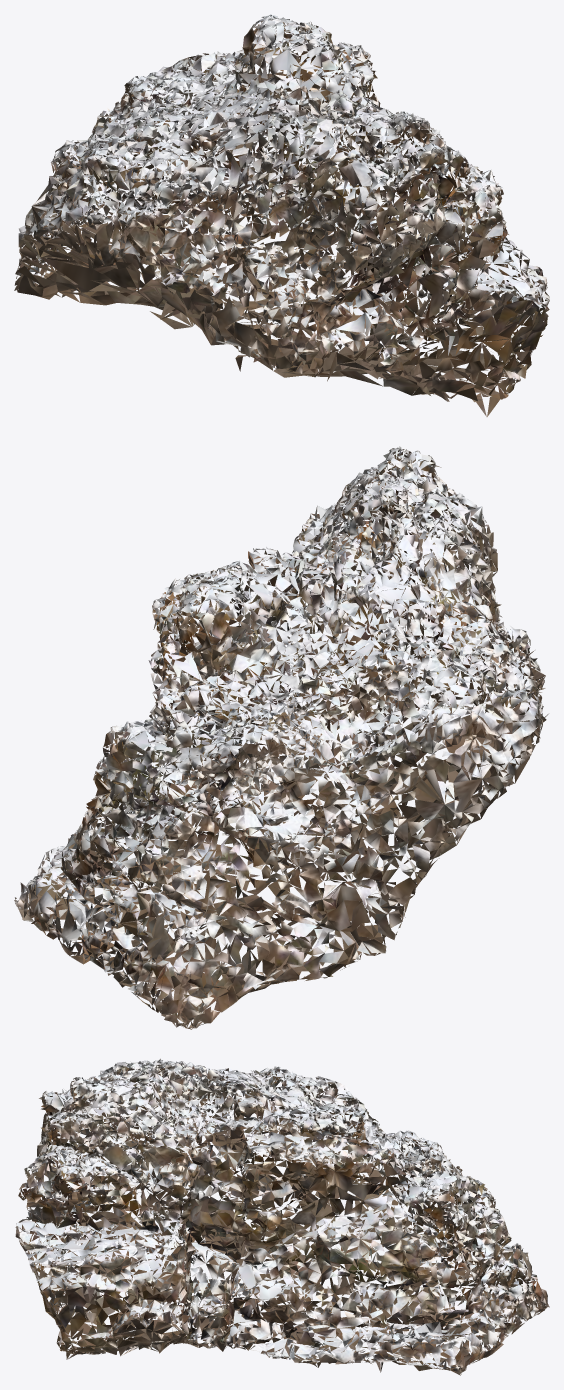
The model's file is boulder_01.glb.
3 renders of one model, top to bottom at view 1: azimuth 30°, elevation 25°; view 2: azimuth 150°, elevation 25°; view 3: azimuth 270°, elevation 25°, orthographic. The views are drawn at different scales.
Visible parts, largest first — view 1: boulder_01; view 2: boulder_01; view 3: boulder_01.
Boxes of the visible parts, <box> form: boulder_01: <box>14,14,549,416</box>; boulder_01: <box>14,446,548,1029</box>; boulder_01: <box>15,1058,549,1375</box>.
Size of the model in its own units: 1.28 by 1.01 by 1.84.
1 material, 1 textured.
